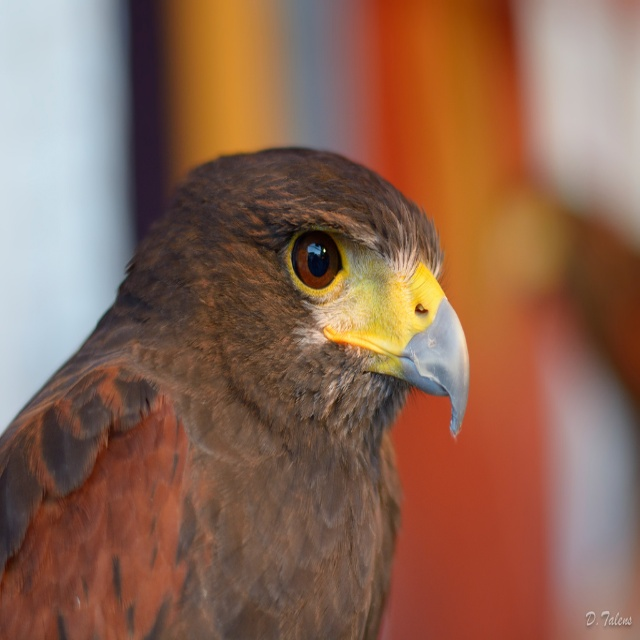Eagle: (0, 143, 472, 639)
